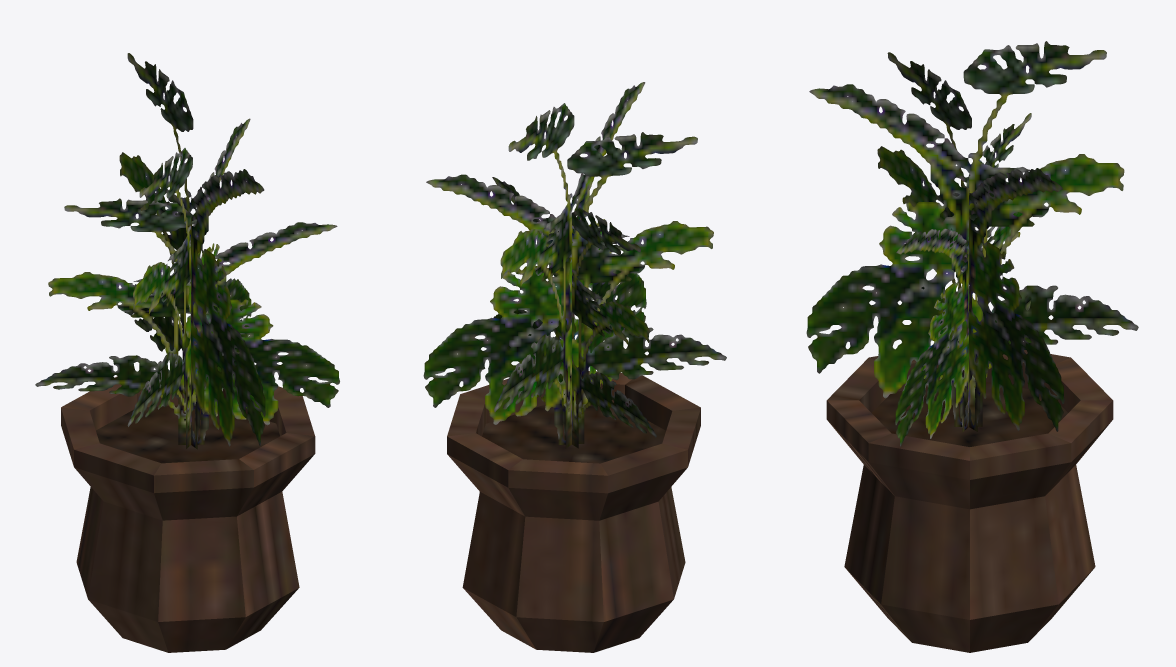
Rendered from PotPlant2.fbx.
3 renders of one model, left to right at view 1: azimuth 30°, elevation 25°; view 2: azimuth 150°, elevation 25°; view 3: azimuth 270°, elevation 25°, orthographic. The views are drawn at different scales.
Visible parts, largest first — view 1: Cylinder.003; view 2: Cylinder.003; view 3: Cylinder.003.
Part boxes in pixels (<box>): Cylinder.003: <box>35,53,339,652</box>; Cylinder.003: <box>423,82,726,652</box>; Cylinder.003: <box>806,41,1138,652</box>.
Size of the model in its own units: 72.74 by 138 by 81.66.
Materials: 2 (2 with a texture image).
